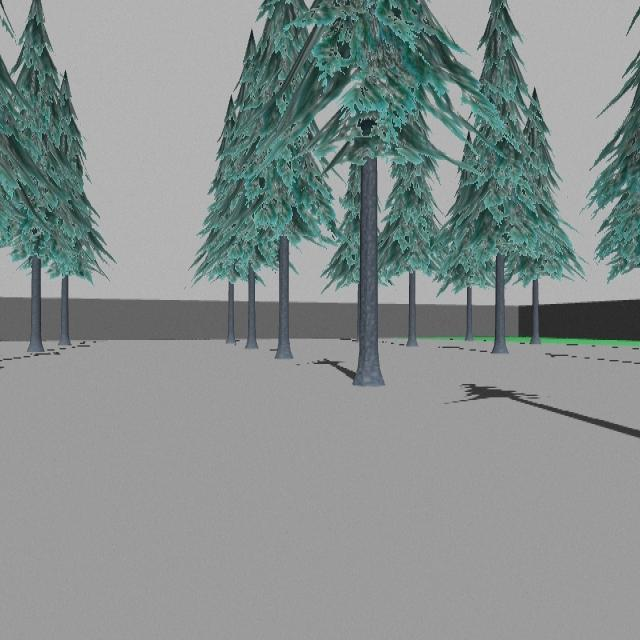tree: (277, 0, 465, 388), (213, 0, 336, 360)
